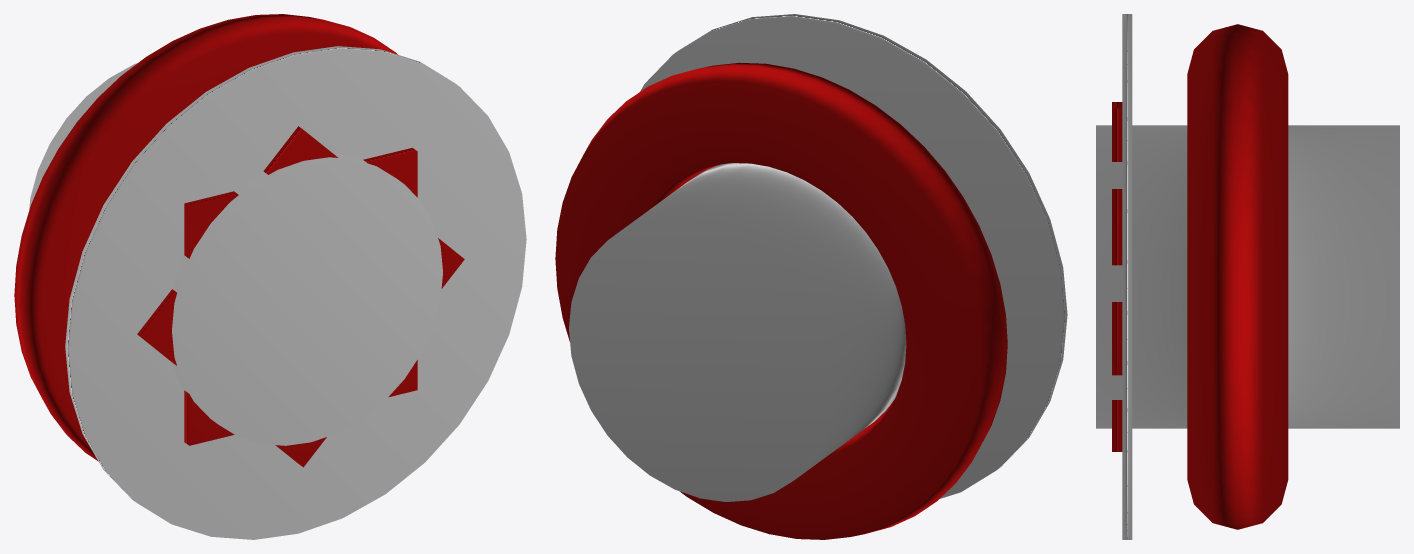
Rendered from bumper_1.fbx.
3 renders of one model, left to right at view 1: azimuth 30°, elevation 25°; view 2: azimuth 150°, elevation 25°; view 3: azimuth 270°, elevation 25°, orthographic.
Parts seen in each view (by area): view 1: Bumper; view 2: Bumper; view 3: Bumper.
Part boxes in pixels (x1,y1,x2,y2): Bumper: [14, 14, 526, 539]; Bumper: [555, 14, 1067, 539]; Bumper: [1096, 14, 1399, 539].
Size of the model in its own units: 2.6 by 2.6 by 1.5.
